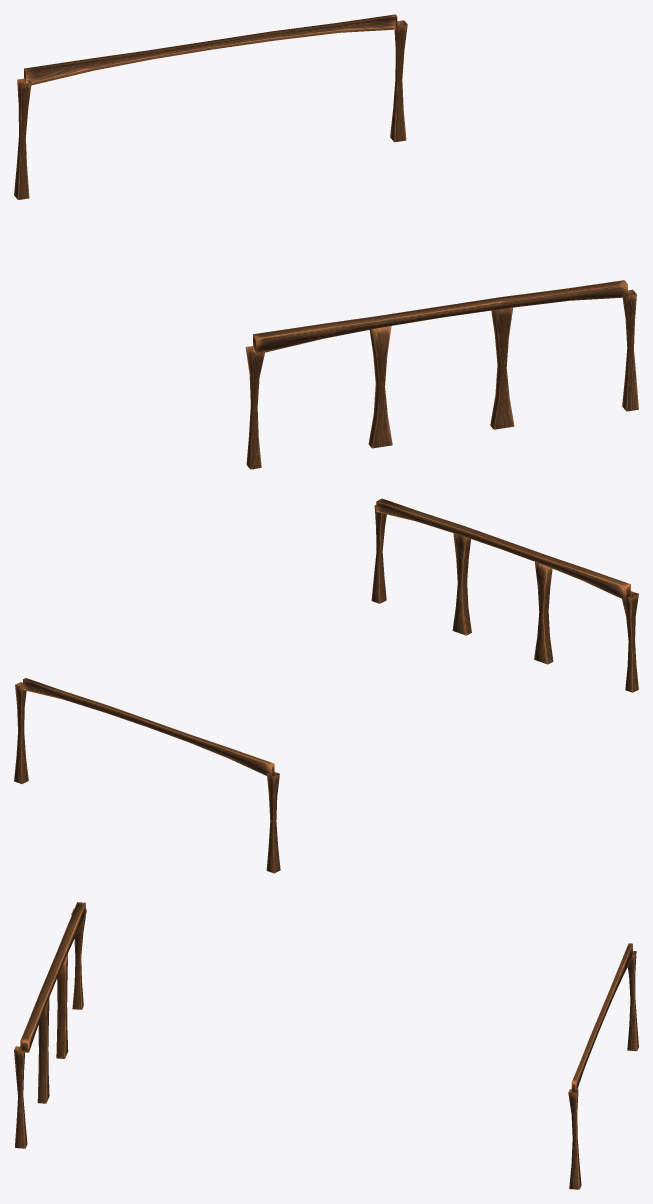
File: HTOWN01_CHICKENCOOPEXTCOLUMS.fbx
The picture shows the model from 3 angles, top to bottom: view 1: azimuth 30°, elevation 25°; view 2: azimuth 150°, elevation 25°; view 3: azimuth 270°, elevation 25°; orthographic projection. The views are drawn at different scales.
Parts seen in each view (by area): view 1: HTOWN01_CHICKENCOOPEXTCOLUMS; view 2: HTOWN01_CHICKENCOOPEXTCOLUMS; view 3: HTOWN01_CHICKENCOOPEXTCOLUMS.
Boxes of the visible parts, x1,y1,x2,y2 form: HTOWN01_CHICKENCOOPEXTCOLUMS: [14, 14, 638, 469]; HTOWN01_CHICKENCOOPEXTCOLUMS: [14, 498, 638, 873]; HTOWN01_CHICKENCOOPEXTCOLUMS: [14, 902, 638, 1189].
Bounding box in the file's own units: 80976 × 21670 × 115669.
1 material, 1 textured.
